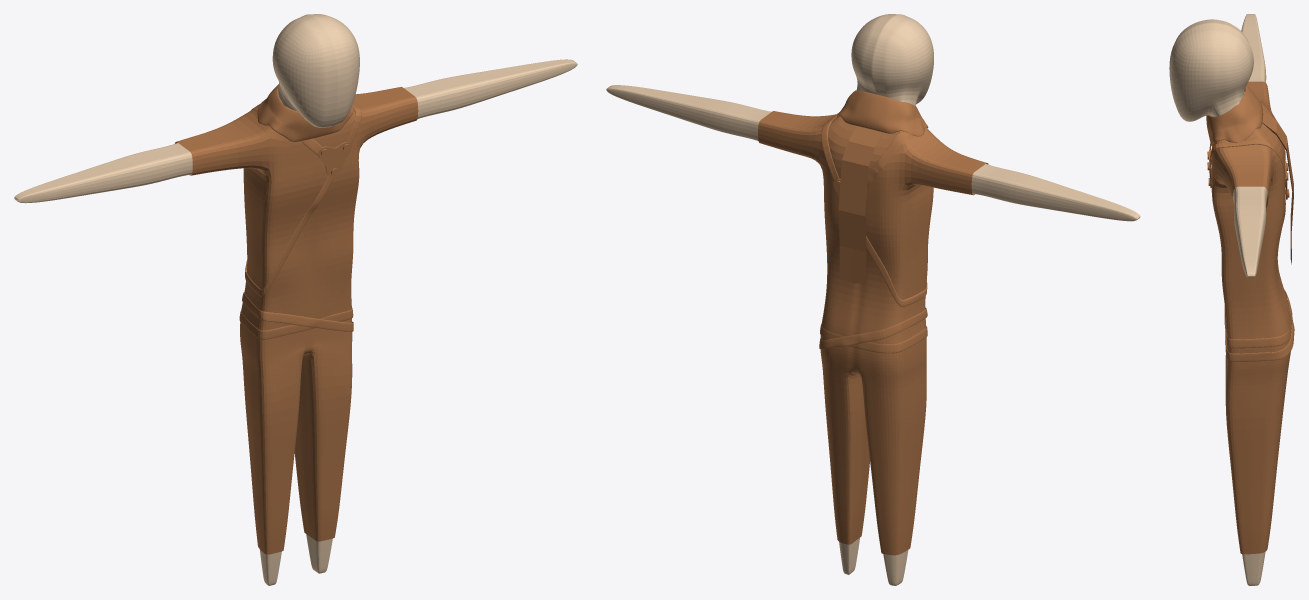
The model's file is ReRiggedGrayCharacter7-5-2018.fbx.
3 views of the same model, side by side, from view 1: azimuth 30°, elevation 25°; view 2: azimuth 150°, elevation 25°; view 3: azimuth 270°, elevation 25° (orthographic). The views are drawn at different scales.
Parts seen in each view (by area): view 1: Pants, Body; view 2: Pants, Body, ScarfTail; view 3: Pants, Body, ScarfTail.
Part boxes in pixels (x1,y1,x2,y2): Pants: [175, 84, 418, 554]; Body: [14, 14, 577, 585]; Pants: [758, 90, 988, 555]; Body: [606, 14, 1140, 585]; ScarfTail: [838, 126, 882, 283]; Pants: [1206, 81, 1294, 554]; Body: [1169, 14, 1267, 585]; ScarfTail: [1262, 111, 1293, 264].
Bounding box in the file's own units: 123 × 121 × 24.95.
